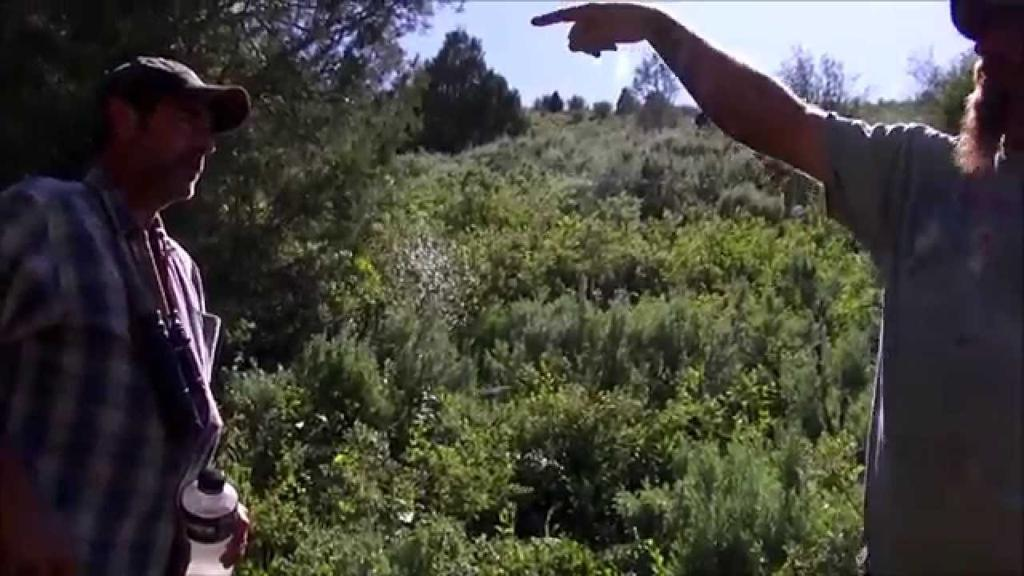face: (128, 86, 216, 194), (966, 26, 1022, 128)
